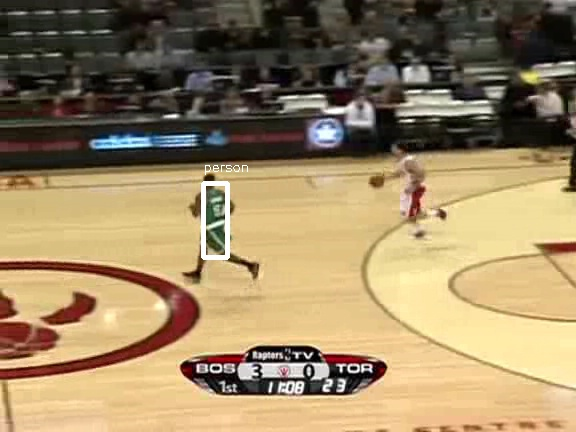person: (197, 179, 231, 260), (196, 179, 230, 260), (198, 179, 232, 260), (197, 178, 231, 259), (197, 180, 231, 261)
target_negative: (251, 172, 564, 309), (114, 13, 375, 173), (410, 102, 488, 388), (248, 178, 345, 293), (8, 70, 80, 167), (25, 290, 247, 319)
